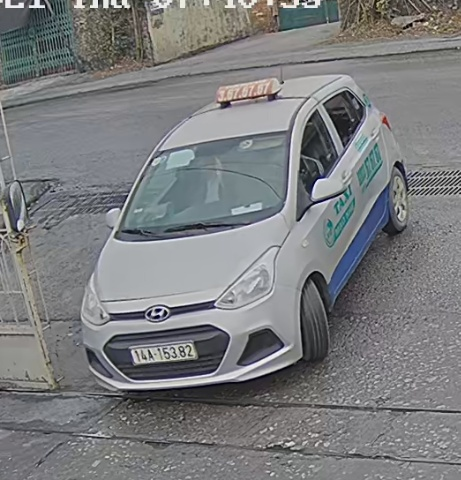vehicle plate: (122, 334, 200, 367)
